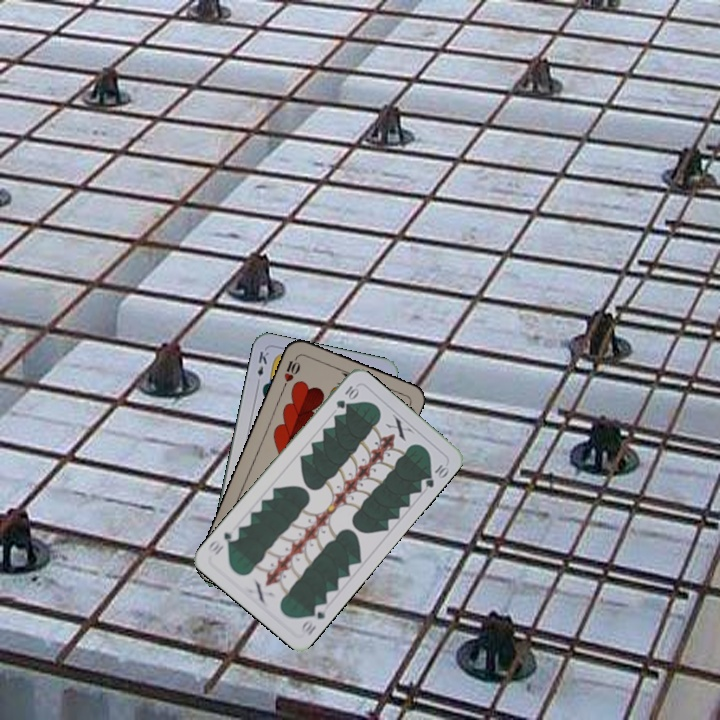EK: (253, 347, 271, 387)
G10: (297, 599, 330, 638), (332, 381, 361, 411)
H10: (279, 352, 303, 391)
